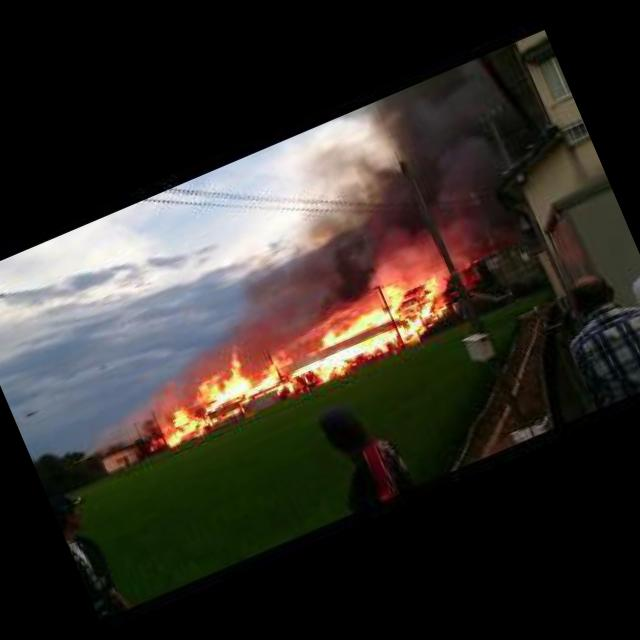fire: (127, 267, 456, 453)
smoke: (192, 93, 524, 344)
